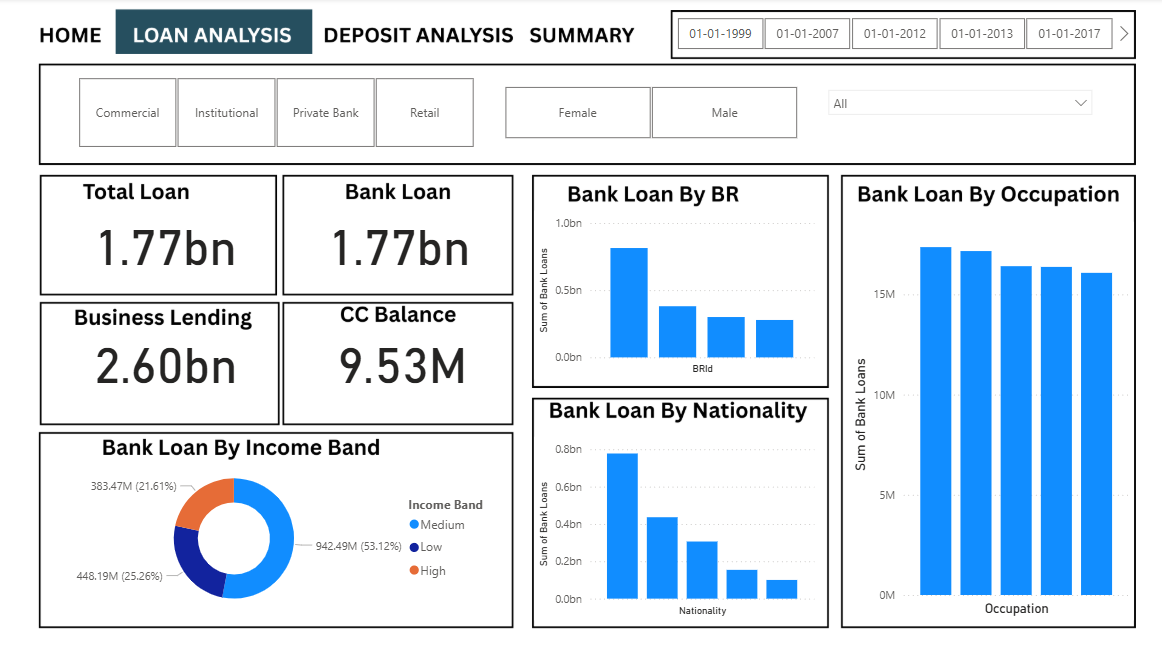

This screenshot's page, from the dashboard's own definition file:
{"tool":"powerbi","page":{"name":"LOAN ANALYSIS","canvas":[1280,720],"ordinal":1},"visuals":[{"type":"slicer","fields":{"Values":["Banking.Year of Joining"]},"box":[719,15.1,526.9,48],"z":0},{"type":"actionButton","box":[26.1,19.2,100.2,39.8],"z":1},{"type":"actionButton","box":[352.7,19.2,211.3,39.8],"z":2},{"type":"actionButton","box":[575,19.2,129,39.8],"z":3},{"type":"card","fields":{"Values":["Sum(Banking.Bank Loans)"]},"box":[76.8,233.3,211.3,68.6],"z":4},{"type":"card","fields":{"Values":["Sum(Banking.Bank Loans)"]},"box":[333.4,233.3,211.3,68.6],"z":5},{"type":"card","fields":{"Values":["Sum(Banking.Business Lending)"]},"box":[61.7,338.9,242.9,115.3],"z":6},{"type":"card","fields":{"Values":["Sum(Banking.Credit Card Balance)"]},"box":[321.1,338.9,242.9,115.3],"z":7},{"type":"donutChart","fields":{"Category":["Banking.Income Band"],"Y":["Sum(Banking.Bank Loans)"]},"box":[61.7,503.6,492.6,179.8],"z":8},{"type":"clusteredColumnChart","fields":{"Category":["Banking.BRId"],"Y":["Sum(Banking.Bank Loans)"]},"box":[587.3,233.3,312.9,185.2],"z":9},{"type":"clusteredColumnChart","fields":{"Category":["Banking.Nationality"],"Y":["Sum(Banking.Bank Loans)"]},"box":[587.3,481.6,312.9,201.7],"z":10},{"type":"clusteredColumnChart","fields":{"Y":["Sum(Banking.Bank Loans)"],"Category":["Banking.Occupation"]},"box":[933.1,245.6,312.9,437.7],"z":11},{"type":"slicer","fields":{"Values":["Banking.BRId"]},"box":[61.7,81,483,89.2],"z":12},{"type":"slicer","fields":{"Values":["Banking.GenderId"]},"box":[529.7,90.6,370.5,70],"z":13},{"type":"slicer","fields":{"Values":["Banking.IAId"]},"box":[900.2,90.6,310.1,89.2],"z":14}]}

Visuals, with their boxes in screenshot pixels (x1, y1, x2, y2), scaled from the page's 1280x720 canvas onto the 1162x648 screenshot:
slicer - Banking.Year of Joining: 653, 14, 1131, 57
actionButton: 24, 17, 115, 53
actionButton: 320, 17, 512, 53
actionButton: 522, 17, 639, 53
card - Sum(Banking.Bank Loans): 70, 210, 262, 272
card - Sum(Banking.Bank Loans): 303, 210, 494, 272
card - Sum(Banking.Business Lending): 56, 305, 277, 409
card - Sum(Banking.Credit Card Balance): 291, 305, 512, 409
donutChart - Banking.Income Band x Sum(Banking.Bank Loans): 56, 453, 503, 615
clusteredColumnChart - Banking.BRId x Sum(Banking.Bank Loans): 533, 210, 817, 377
clusteredColumnChart - Banking.Nationality x Sum(Banking.Bank Loans): 533, 433, 817, 615
clusteredColumnChart - Sum(Banking.Bank Loans) x Banking.Occupation: 847, 221, 1131, 615
slicer - Banking.BRId: 56, 73, 494, 153
slicer - Banking.GenderId: 481, 82, 817, 145
slicer - Banking.IAId: 817, 82, 1099, 162
